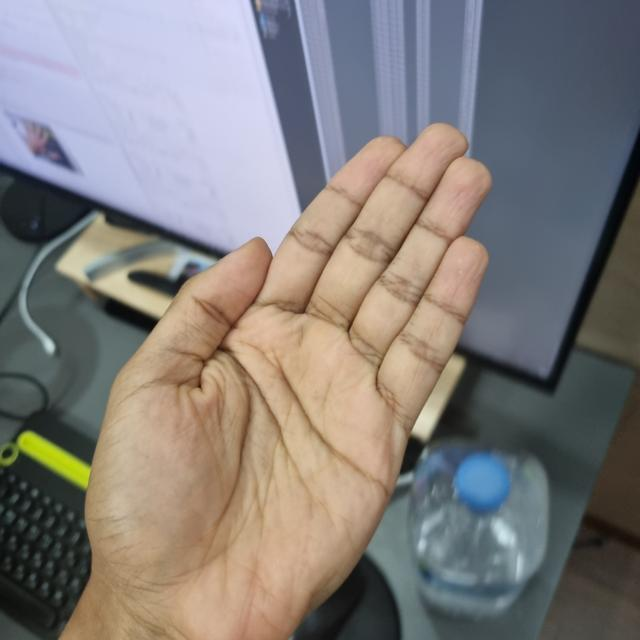Paper: (80, 125, 491, 639)
